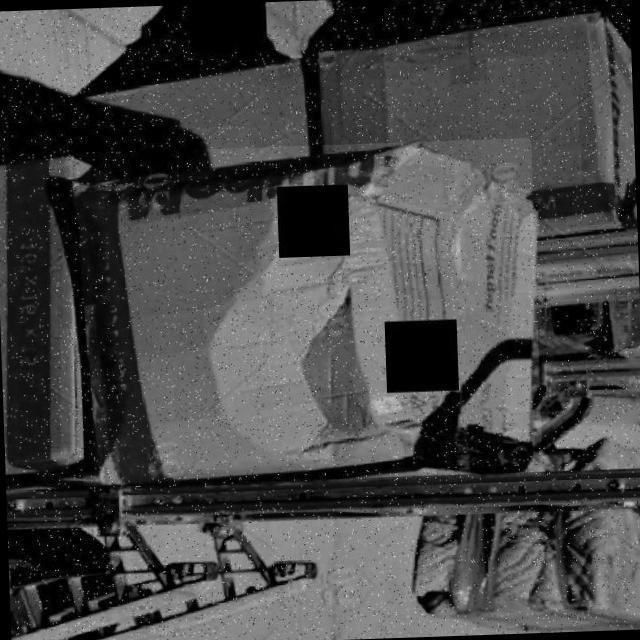box: (71, 137, 542, 486)
